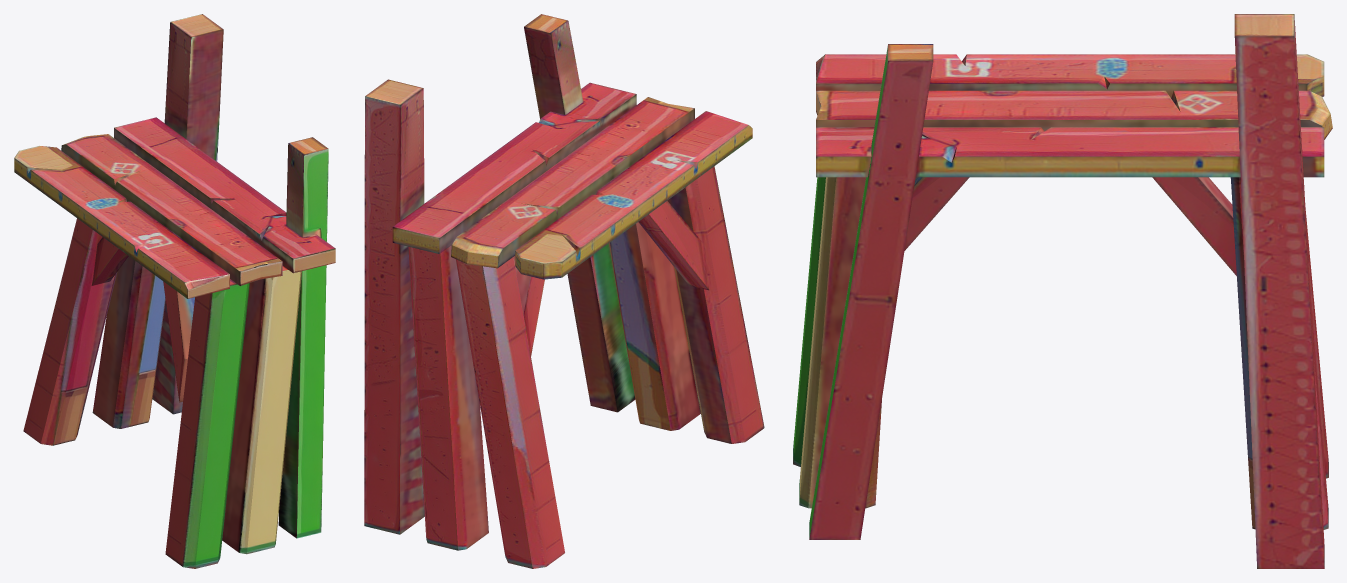
Rendered from vhod_rydnik_1208095036.obj.
The picture shows the model from 3 angles, left to right: view 1: azimuth 30°, elevation 25°; view 2: azimuth 150°, elevation 25°; view 3: azimuth 270°, elevation 25°; orthographic projection. The views are drawn at different scales.
Parts seen in each view (by area): view 1: Mesh_0; view 2: Mesh_0; view 3: Mesh_0.
Boxes of the visible parts, <box> form: Mesh_0: <box>14,14,335,568</box>; Mesh_0: <box>364,14,764,568</box>; Mesh_0: <box>793,14,1332,568</box>.
Size of the model in its own units: 0.5267 by 1 by 0.9062.
Materials: 1 (1 with a texture image).
